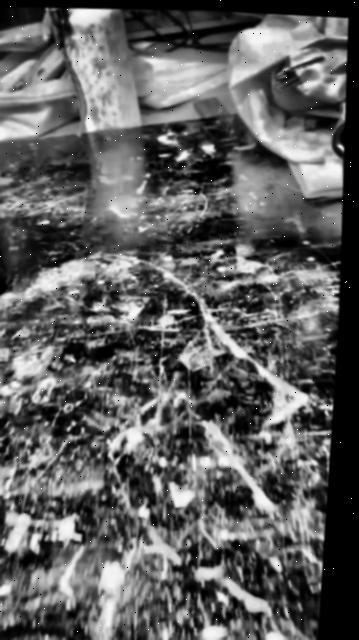pot: (0, 165, 19, 313)
